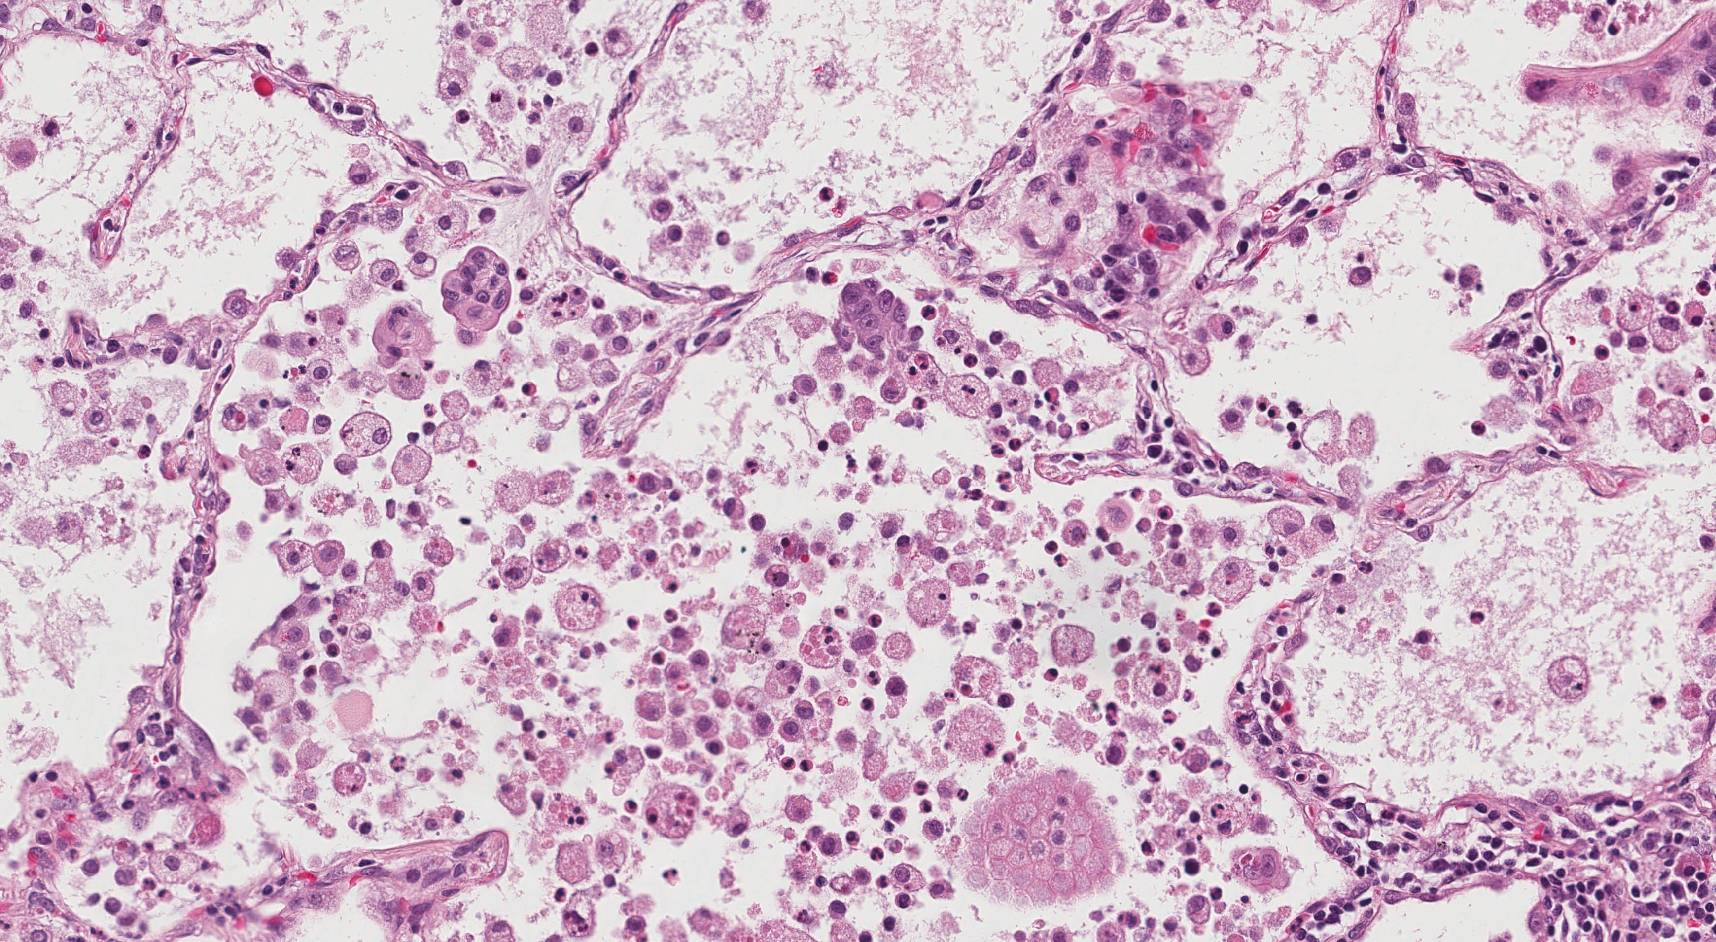stas: (830, 281, 923, 361), (442, 245, 512, 336)
